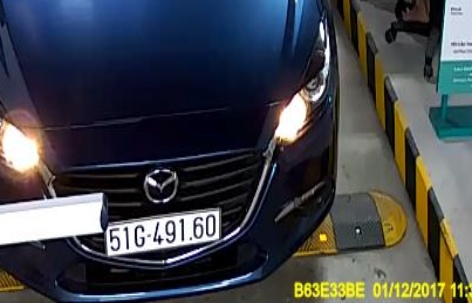plate: (100, 209, 225, 255)
